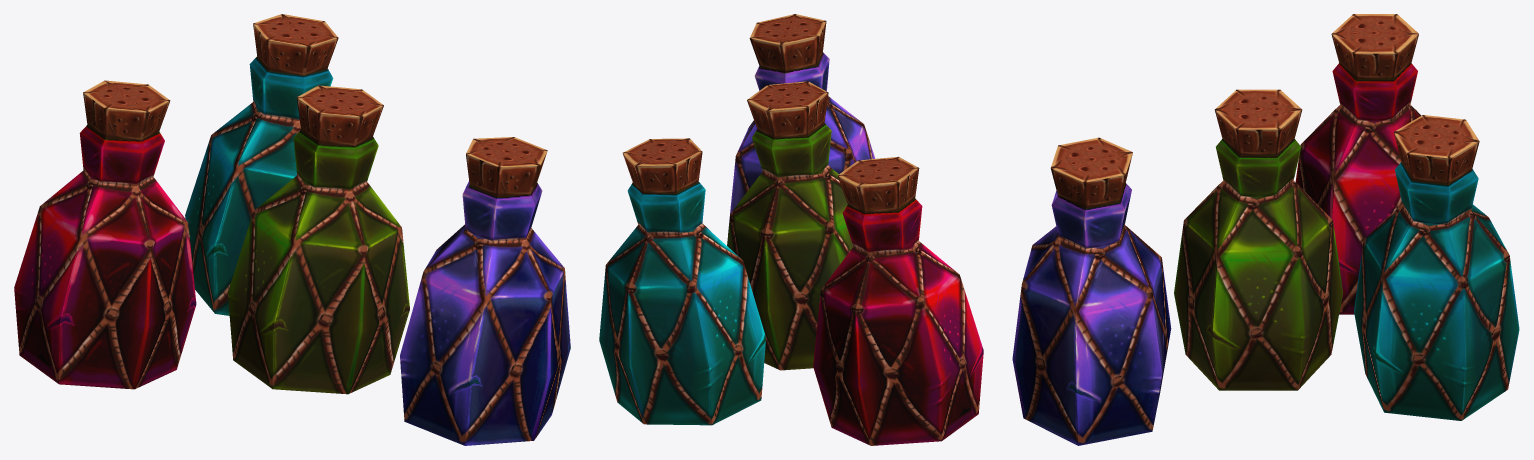
Rendered from pottery.fbx.
3 renders of one model, left to right at view 1: azimuth 30°, elevation 25°; view 2: azimuth 150°, elevation 25°; view 3: azimuth 270°, elevation 25°, orthographic. The views are drawn at different scales.
Parts seen in each view (by area): view 1: polySurface10, polySurface7, polySurface8, polySurface9; view 2: polySurface10, polySurface9, polySurface7, polySurface8; view 3: polySurface7, polySurface9, polySurface8, polySurface10.
Part boxes in pixels (x1,y1,x2,y2): polySurface10: [14, 80, 196, 389]; polySurface7: [228, 85, 409, 394]; polySurface8: [400, 137, 570, 445]; polySurface9: [185, 14, 338, 315]; polySurface10: [813, 156, 983, 445]; polySurface9: [599, 138, 765, 425]; polySurface7: [727, 81, 853, 370]; polySurface8: [728, 14, 875, 233]; polySurface7: [1174, 89, 1342, 390]; polySurface9: [1354, 115, 1519, 420]; polySurface8: [1012, 137, 1171, 445]; polySurface10: [1295, 14, 1421, 314].
Size of the model in its own units: 386 by 270 by 442.
